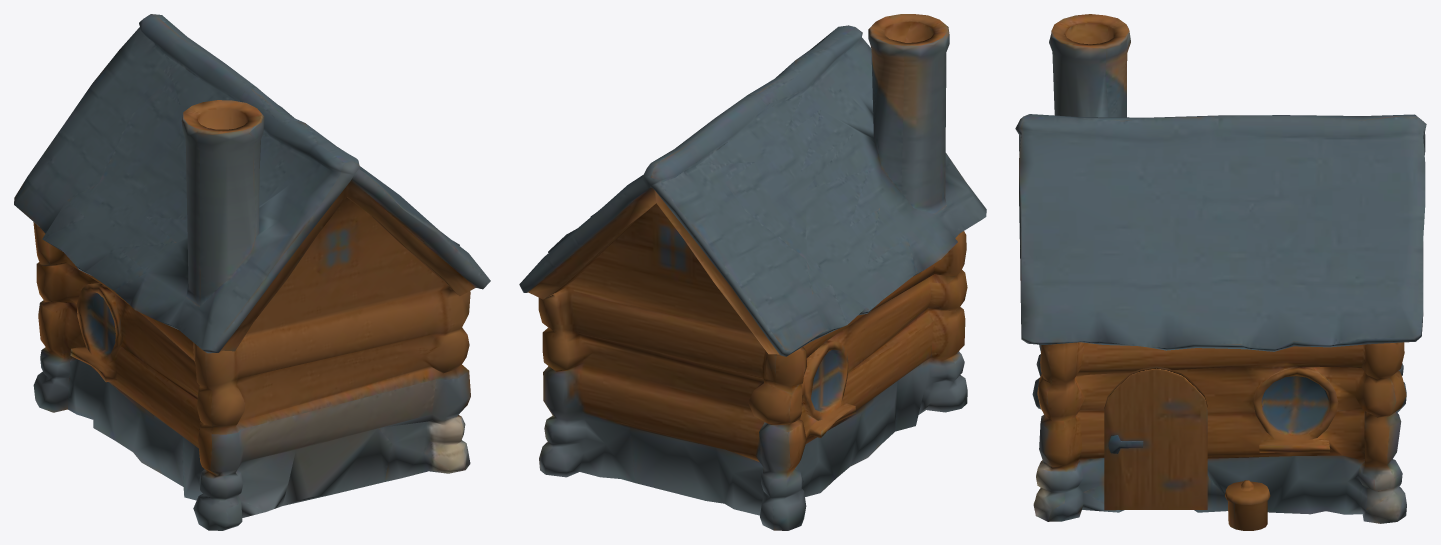
The model's file is wilderness_hut.glb.
3 views of the same model, side by side, from view 1: azimuth 30°, elevation 25°; view 2: azimuth 150°, elevation 25°; view 3: azimuth 270°, elevation 25° (orthographic).
Size of the model in its own units: 0.7412 by 0.8916 by 0.8618.
1 material, 1 textured.
